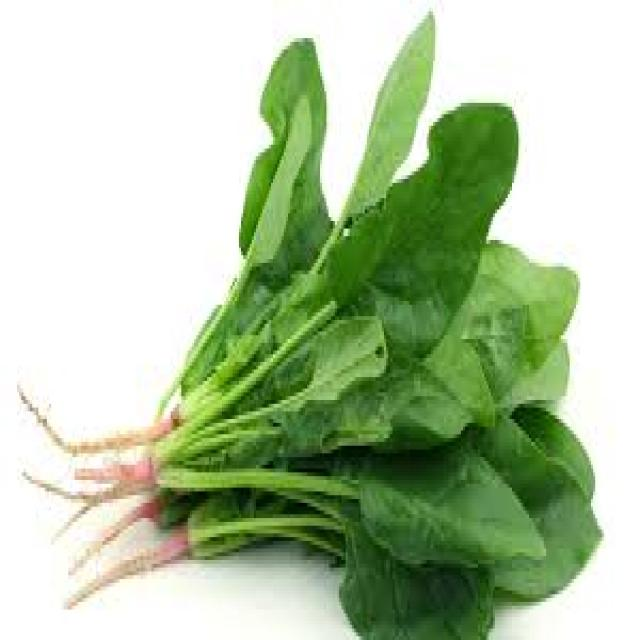Wet Waste: (128, 1, 632, 638)
